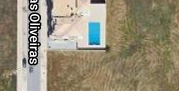pool: (87, 20, 101, 47)
